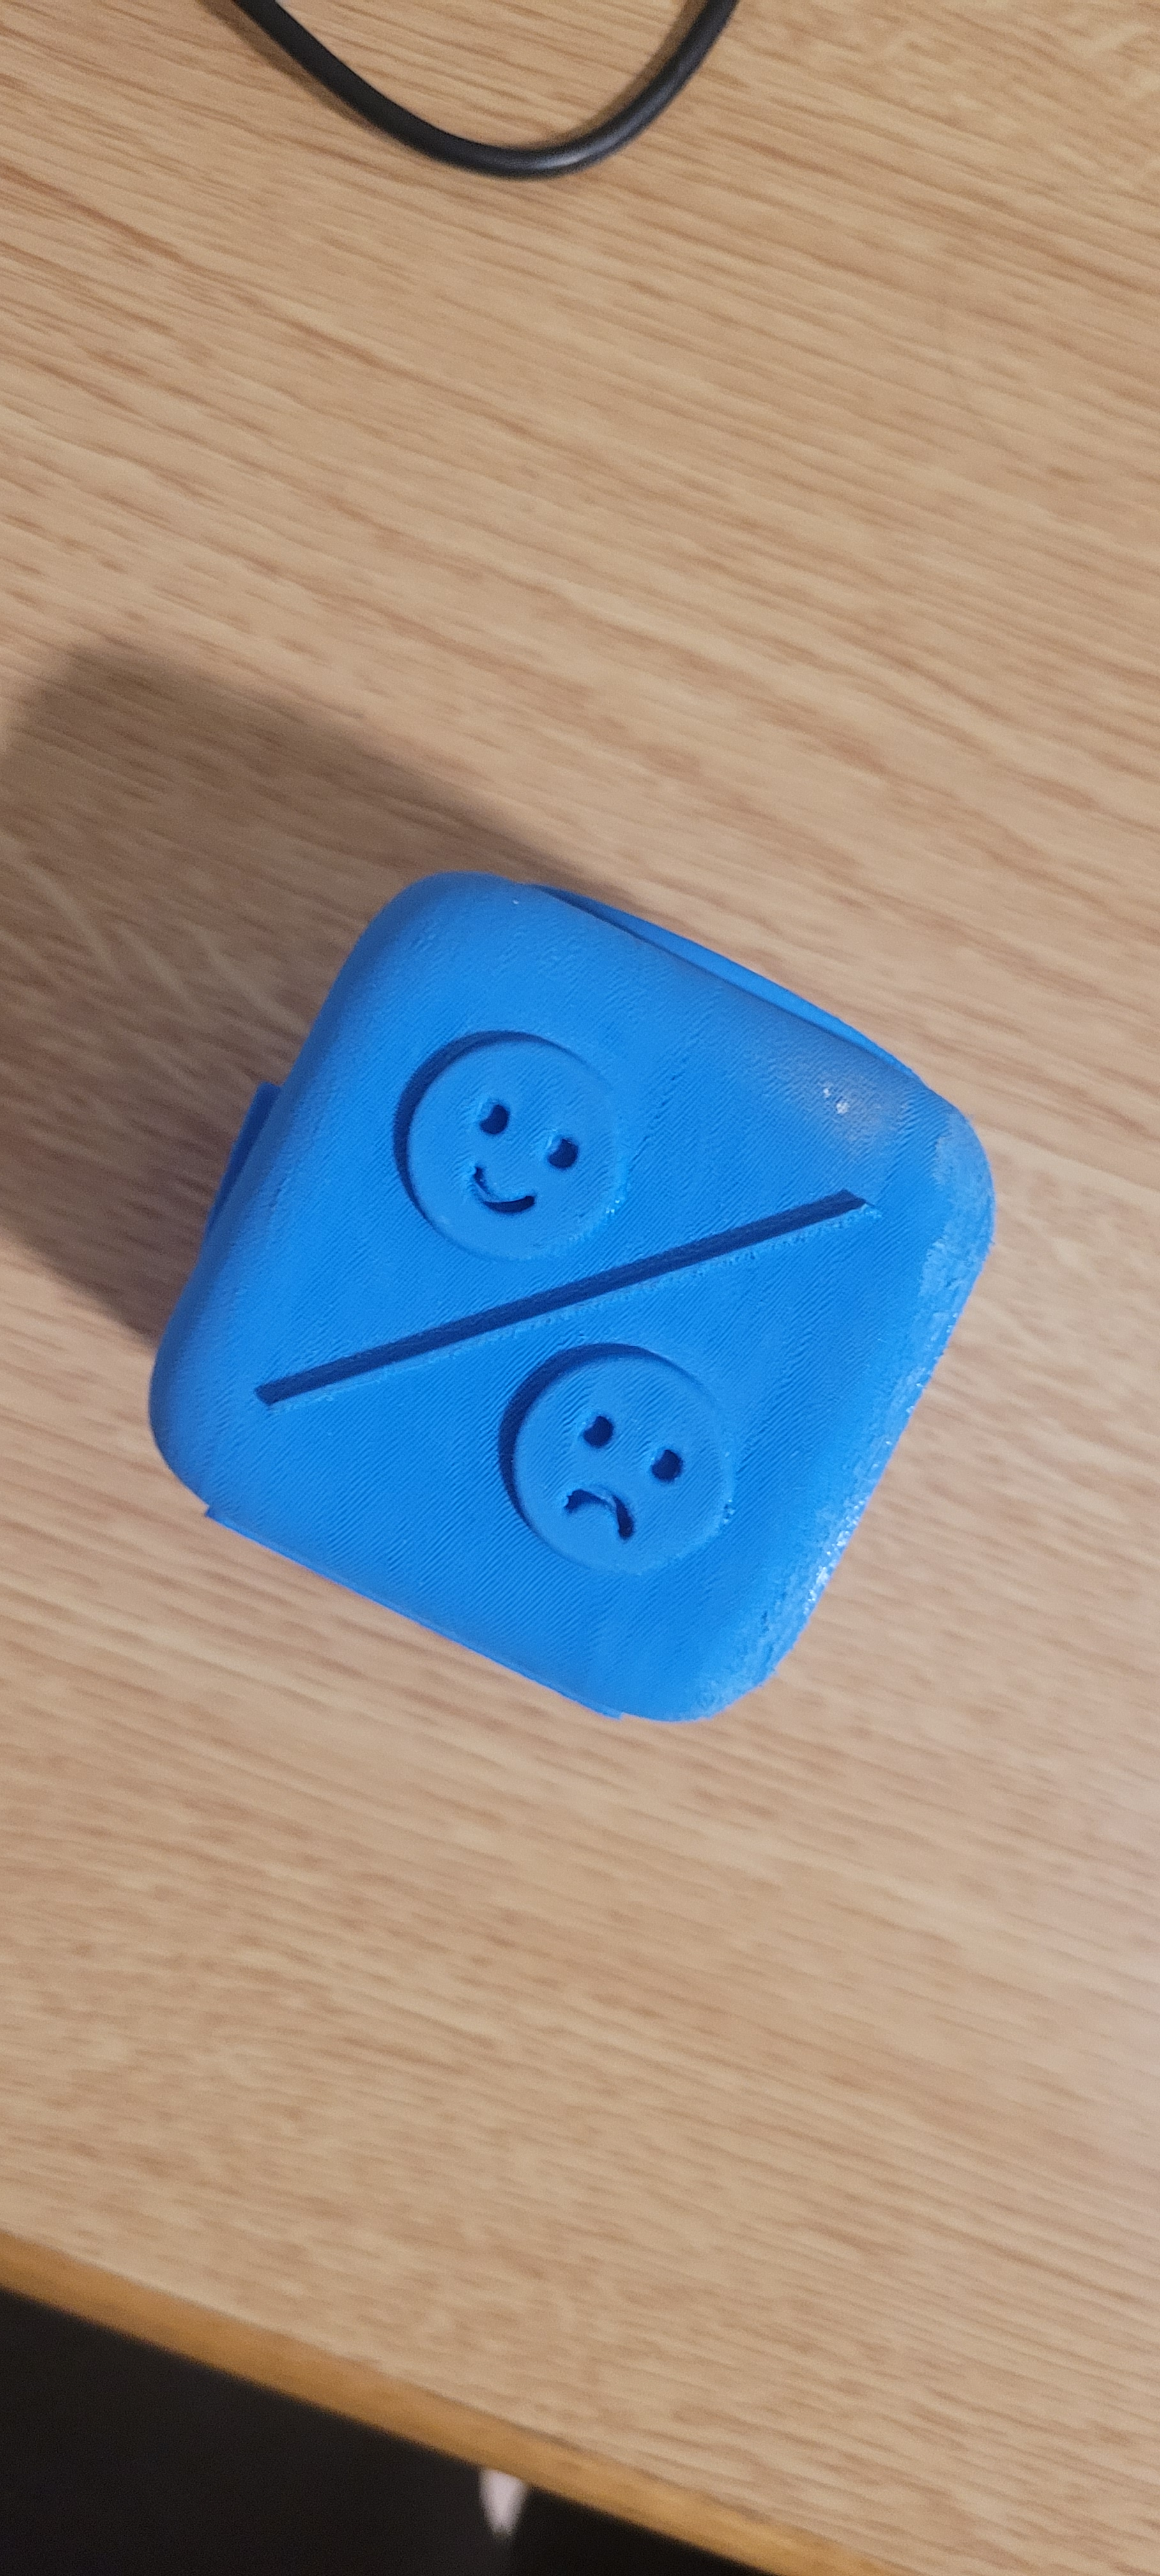Like/Dislike: (274, 871, 937, 1672)
